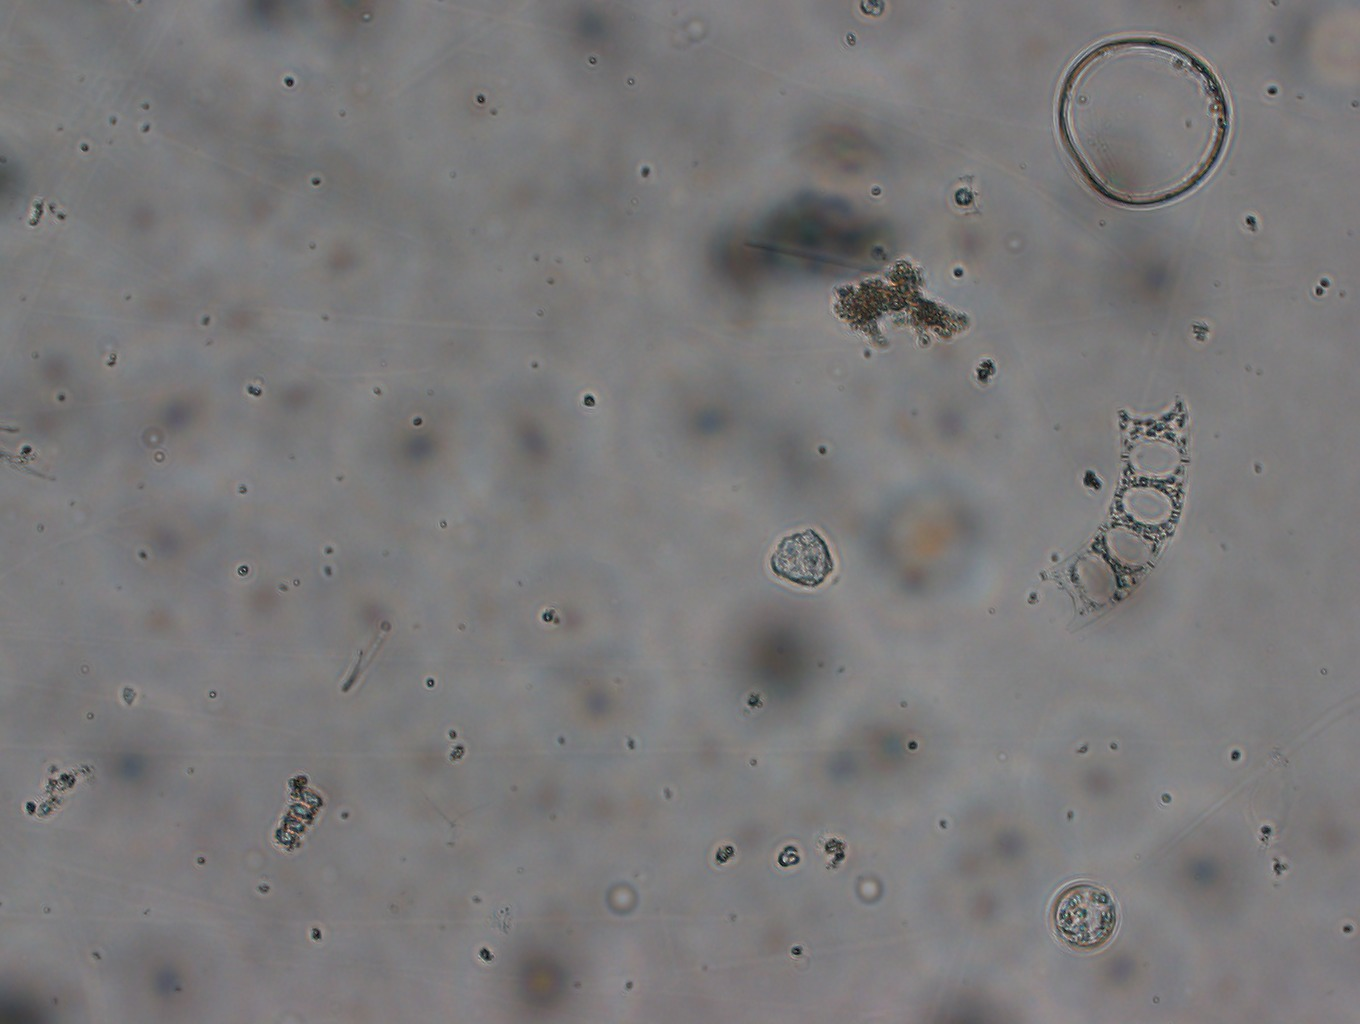coscinodiscus: (1042, 873, 1125, 961)
eucampia: (1028, 394, 1200, 650)
